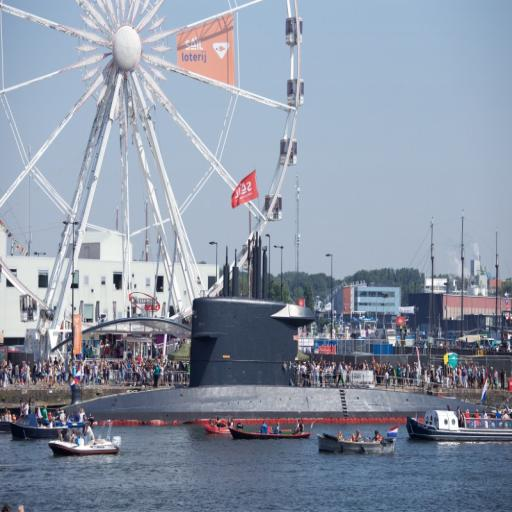submarine: (52, 219, 475, 424)
